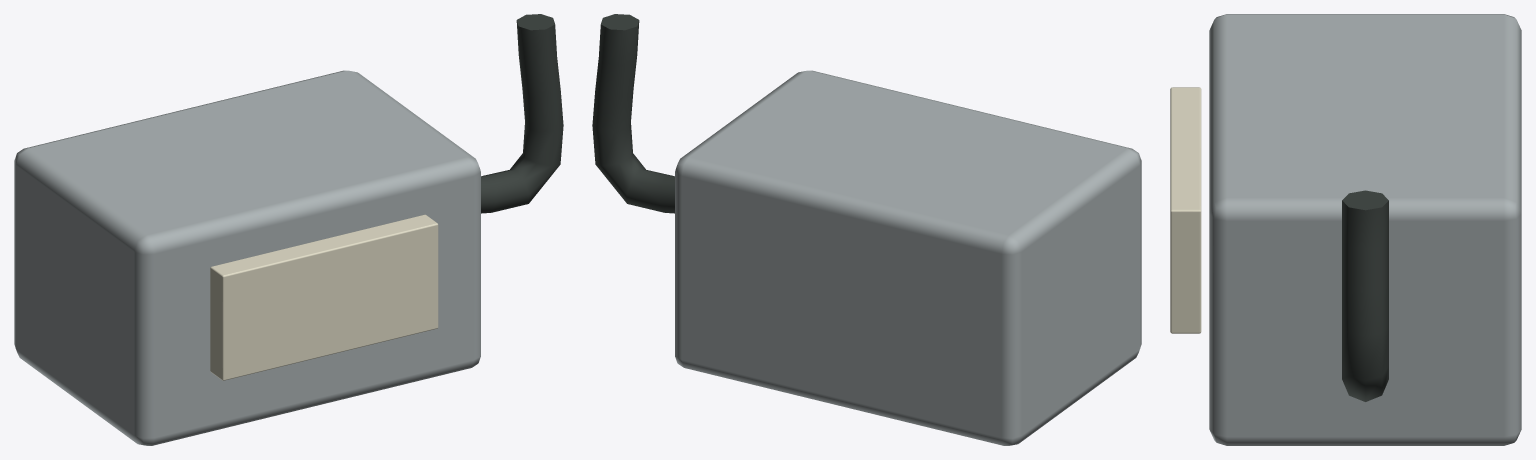
Rendered from research-and-crafting-progression-mechanical-counter-7d48deda__2873.glb.
3 views of the same model, side by side, from view 1: azimuth 30°, elevation 25°; view 2: azimuth 150°, elevation 25°; view 3: azimuth 270°, elevation 25° (orthographic). The views are drawn at different scales.
Parts seen in each view (by area): view 1: mechanical-counter, lever/dark; view 2: mechanical-counter, lever/dark; view 3: mechanical-counter, lever/dark.
Part boxes in pixels (left/top/right/bottom): mechanical-counter: left=14, top=70, right=480, bottom=445; lever/dark: left=481, top=14, right=563, bottom=213; mechanical-counter: left=675, top=70, right=1141, bottom=445; lever/dark: left=592, top=14, right=674, bottom=213; mechanical-counter: left=1170, top=14, right=1521, bottom=445; lever/dark: left=1342, top=190, right=1388, bottom=401.
Bounding box in the file's own units: 0.1689 × 0.09 × 0.09.
